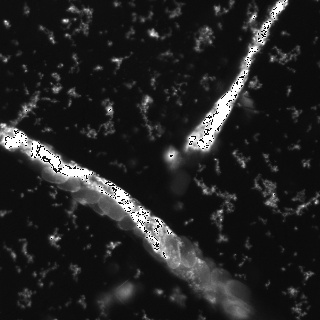embryo: (98, 194, 126, 221), (143, 236, 170, 263), (162, 234, 181, 267), (85, 190, 110, 215), (225, 280, 252, 303), (176, 236, 196, 267), (70, 187, 102, 205), (198, 259, 217, 289), (171, 258, 194, 281), (191, 258, 209, 287), (170, 169, 190, 195), (41, 167, 69, 185), (186, 248, 203, 277), (134, 221, 161, 239), (205, 282, 227, 303), (210, 269, 232, 288), (118, 214, 140, 231), (56, 177, 81, 191)
